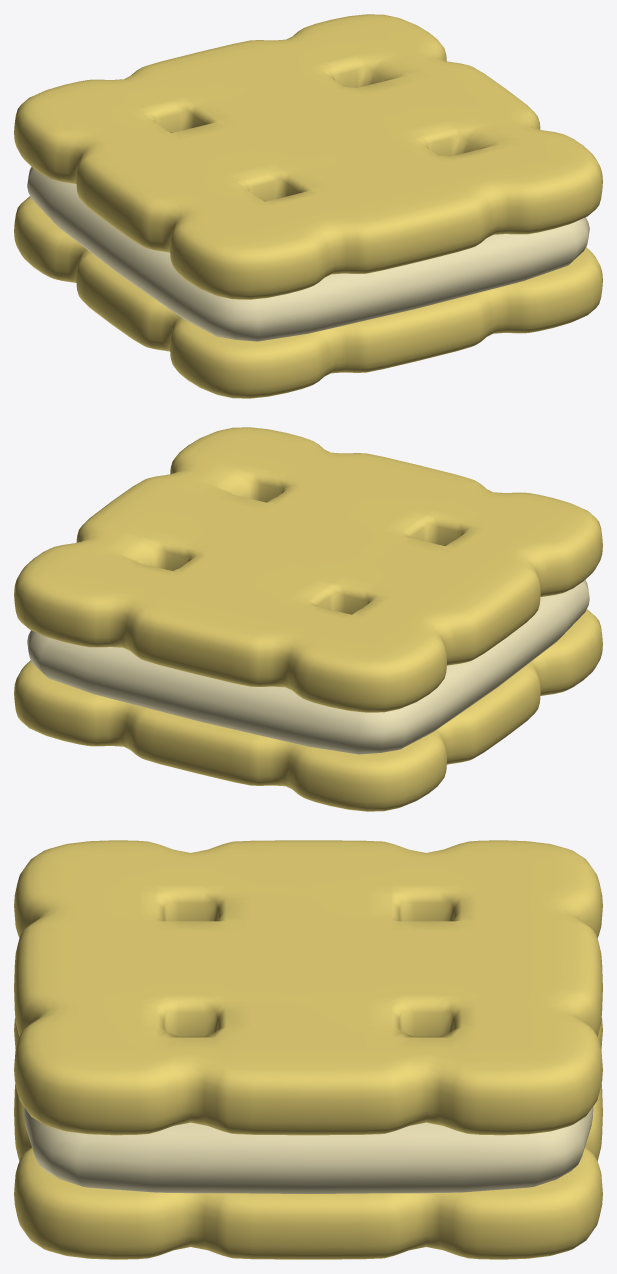
The picture shows the model from 3 angles, top to bottom: view 1: azimuth 30°, elevation 25°; view 2: azimuth 150°, elevation 25°; view 3: azimuth 270°, elevation 25°; orthographic projection. The views are drawn at different scales.
Parts seen in each view (by area): view 1: binggan; view 2: binggan; view 3: binggan.
Part boxes in pixels (bbox=[...]): binggan: bbox=[14, 14, 602, 398]; binggan: bbox=[14, 427, 602, 811]; binggan: bbox=[14, 840, 602, 1259].
Size of the model in its own units: 10.27 by 3.63 by 10.27.
